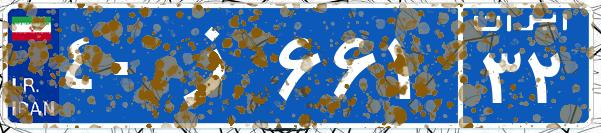0: (110, 28, 158, 105)
1: (385, 28, 445, 110)
2: (525, 38, 570, 115)
3: (475, 38, 525, 113)
4: (57, 26, 110, 107)
6: (273, 28, 330, 110), (330, 28, 385, 110)
ز: (158, 15, 273, 115)
